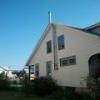chimneys: (48, 12, 52, 22)
